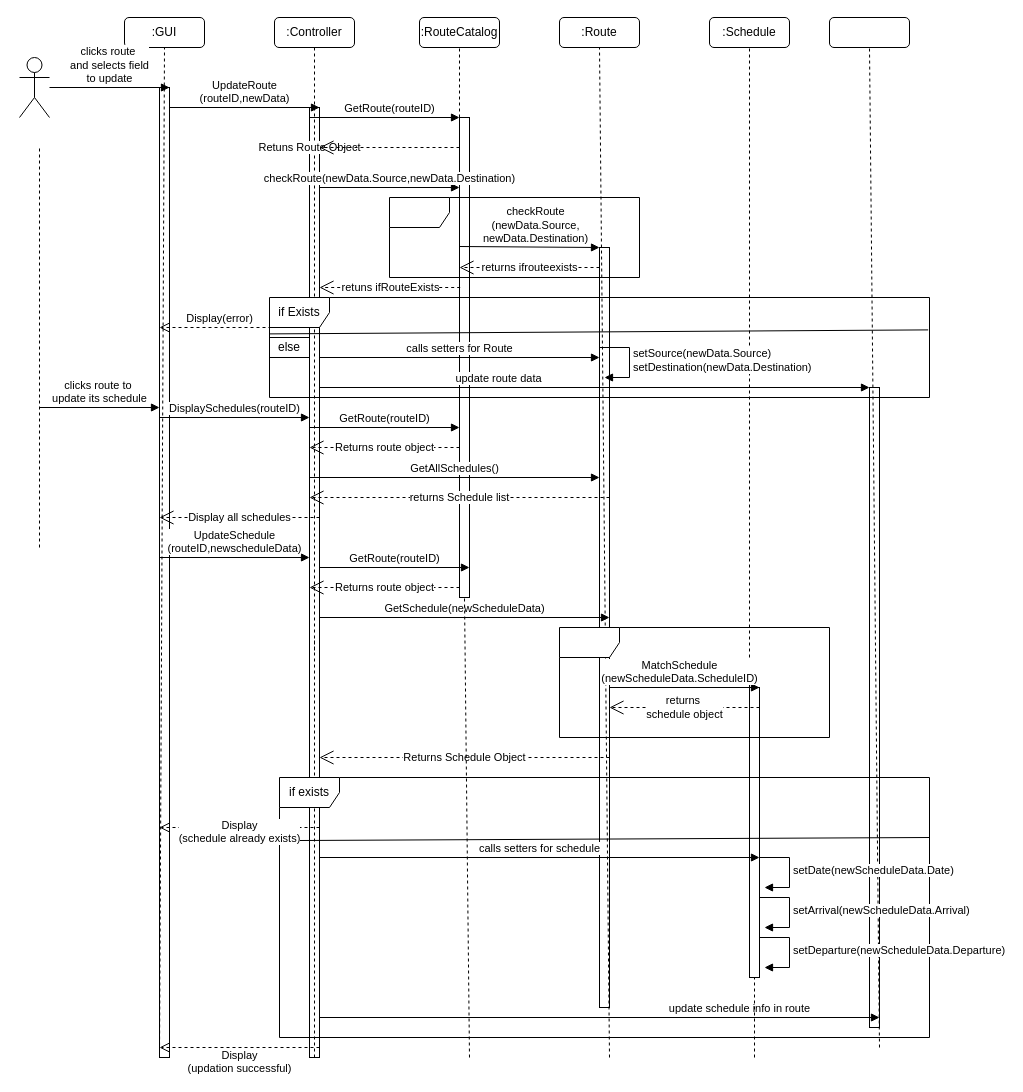
The diagram is 1023 pixels wide and 1092 high, and some of its shapes have lost their labels. The centre of each missing label's shape, as x and y in pixels:
:DB: pixel 869 32
Admin: pixel 34 87
for each Query: pixel 694 682
for every route: pixel 514 237
